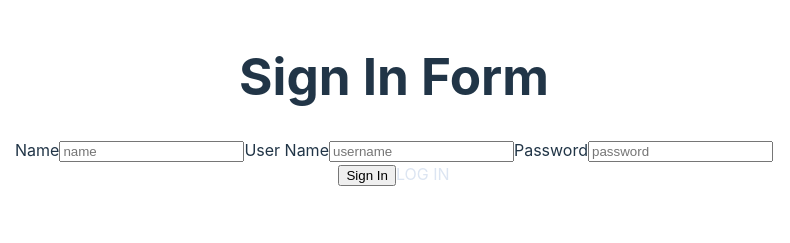
Scenario: Signin › should have errors message when the password is too short
The image size is (790, 243).
Type "martin" into the field labelled "name".
click(152, 152); type("martin")  # box [59, 142, 244, 162]
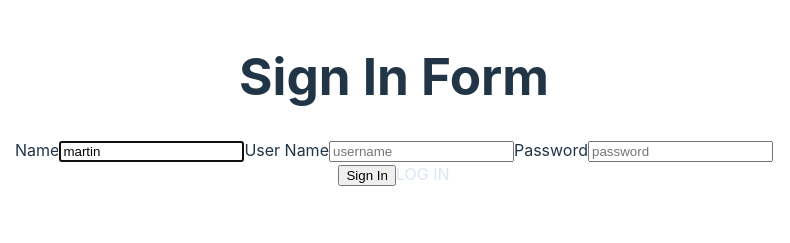
Type "Martin57" into the field labelled "username".
click(422, 152); type("Martin57")  # box [329, 142, 514, 162]
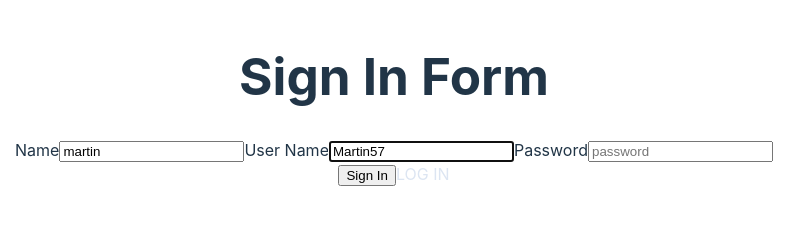
Type "PAS" into the password field labelled "Password".
click(680, 152); type("PAS")  # box [588, 142, 773, 162]
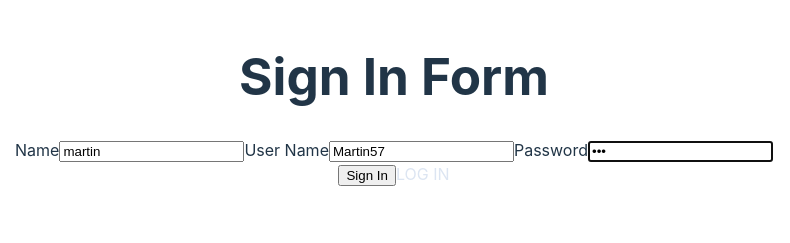
Click the button "Sign In".
click(367, 176)  # box [338, 166, 396, 186]
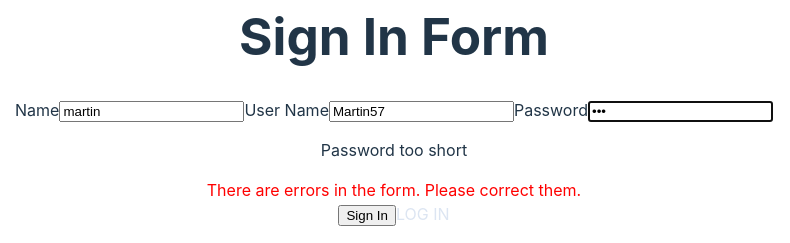
Expected: the text "Password too short" is shown, [321, 140, 467, 160]
